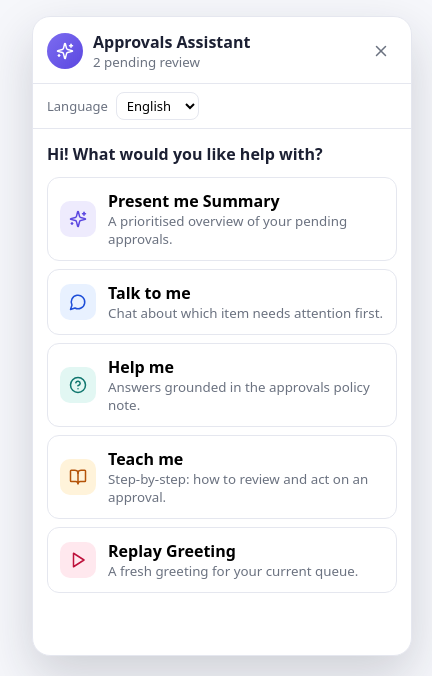
Test: error and fallback states › treats a stream that ends without 'done' as an error instead of freezing
Click the button "Present me Summary": (222, 219) [47,177,397,261]
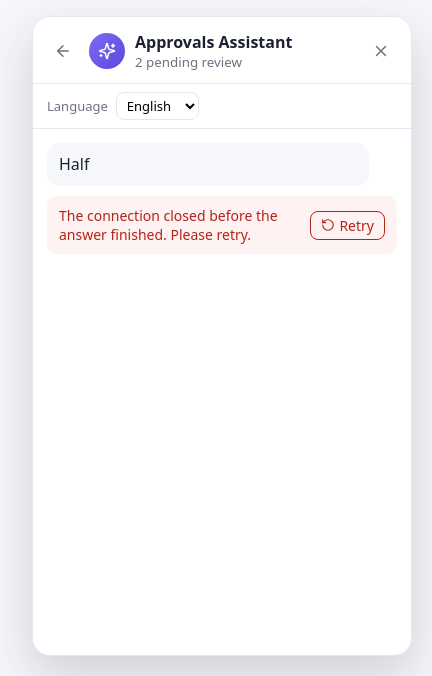
Result: the message "The connection closed before the answer finished. Please retry. Retry" is shown at [47,196,397,254]
